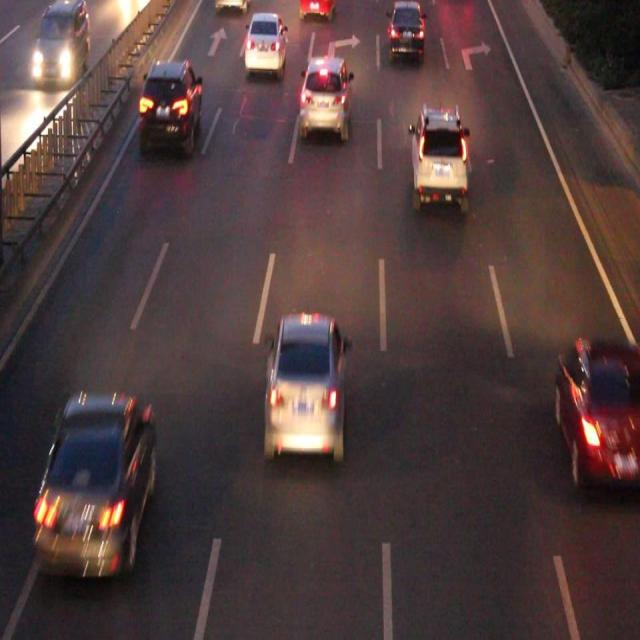car: (40, 399, 154, 569), (556, 339, 640, 483), (266, 316, 343, 456), (412, 112, 466, 202), (142, 63, 200, 146), (301, 57, 349, 134), (245, 13, 285, 70), (389, 1, 422, 56), (300, 2, 334, 15)
